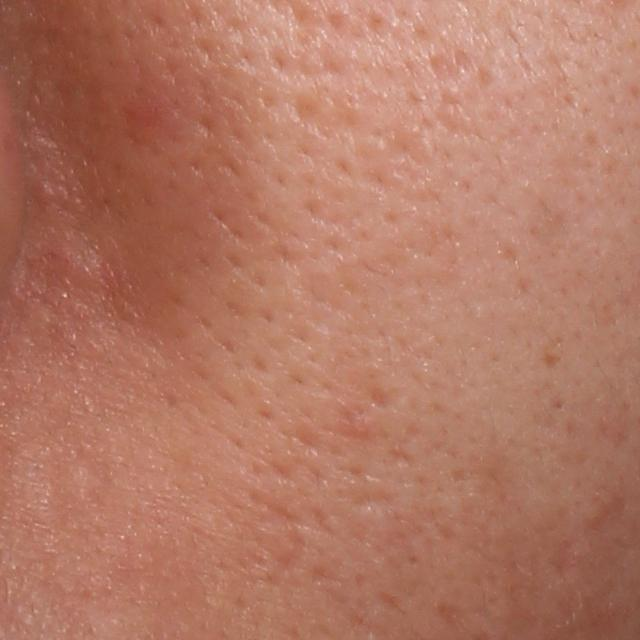atrophic_scar: (422, 45, 479, 133), (285, 266, 345, 310), (343, 489, 403, 514), (371, 383, 398, 415), (540, 345, 564, 372)
